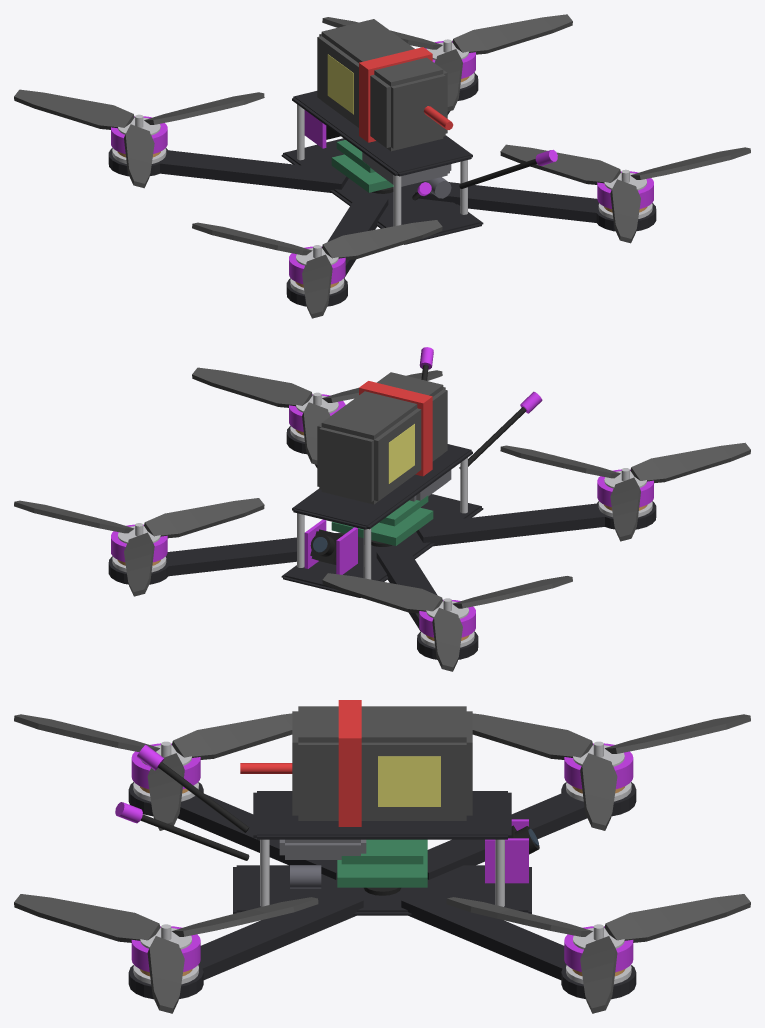
The model's file is freestyle7.glb.
3 views of the same model, one above another, from view 1: azimuth 30°, elevation 25°; view 2: azimuth 150°, elevation 25°; view 3: azimuth 270°, elevation 25° (orthographic). The views are drawn at different scales.
Visible parts, largest first — view 1: body, prop_FL, prop_RL, prop_RR, prop_FR, cam_mount; view 2: body, prop_FL, prop_FR, prop_RL, prop_RR, cam_mount, fpv_cam; view 3: body, prop_FR, prop_RR, prop_FL, prop_RL, cam_mount.
Part boxes in pixels (x1=…): body: x1=108, y1=19, x2=656, y2=306; prop_FL: x1=14, y1=89, x2=393, y2=193; prop_RL: x1=192, y1=220, x2=442, y2=318; prop_RR: x1=500, y1=144, x2=750, y2=243; prop_FR: x1=322, y1=14, x2=572, y2=111; cam_mount: x1=304, y1=110, x2=326, y2=148; body: x1=108, y1=347, x2=656, y2=659; prop_FL: x1=322, y1=540, x2=572, y2=671; prop_FR: x1=14, y1=498, x2=264, y2=596; prop_RL: x1=500, y1=442, x2=750, y2=541; prop_RR: x1=192, y1=367, x2=442, y2=464; cam_mount: x1=304, y1=519, x2=357, y2=574; fpv_cam: x1=310, y1=529, x2=342, y2=564; body: x1=115, y1=700, x2=636, y2=999; prop_FR: x1=446, y1=894, x2=750, y2=1013; prop_RR: x1=14, y1=894, x2=318, y2=1013; prop_FL: x1=364, y1=713, x2=750, y2=895; prop_RL: x1=14, y1=713, x2=292, y2=830; cam_mount: x1=485, y1=819, x2=528, y2=883.
Size of the model in its own units: 0.3605 by 0.1047 by 0.3816.
